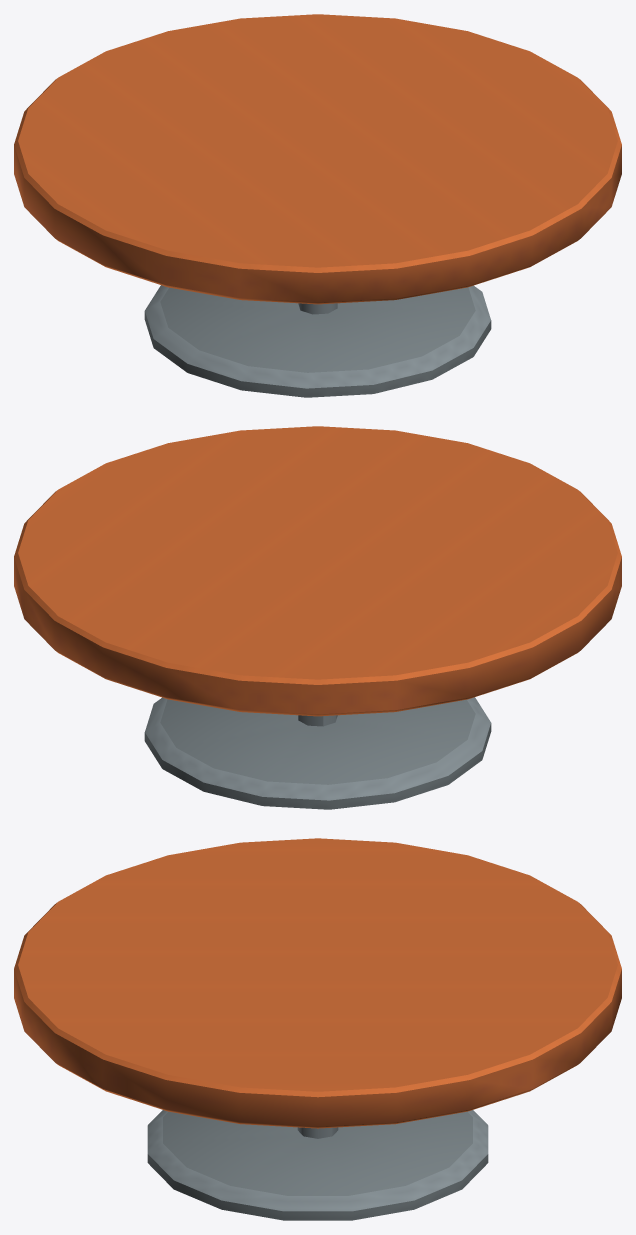
Rendered from table_round_A.gltf.
3 views of the same model, one above another, from view 1: azimuth 30°, elevation 25°; view 2: azimuth 150°, elevation 25°; view 3: azimuth 270°, elevation 25° (orthographic).
Parts seen in each view (by area): view 1: table_round_A; view 2: table_round_A; view 3: table_round_A.
Boxes of the visible parts, left/top/right/bottom form: table_round_A: left=14, top=14, right=621, bottom=397; table_round_A: left=14, top=426, right=621, bottom=809; table_round_A: left=14, top=838, right=621, bottom=1220.
Size of the model in its own units: 3 by 1 by 3.
1 material, 1 textured.
